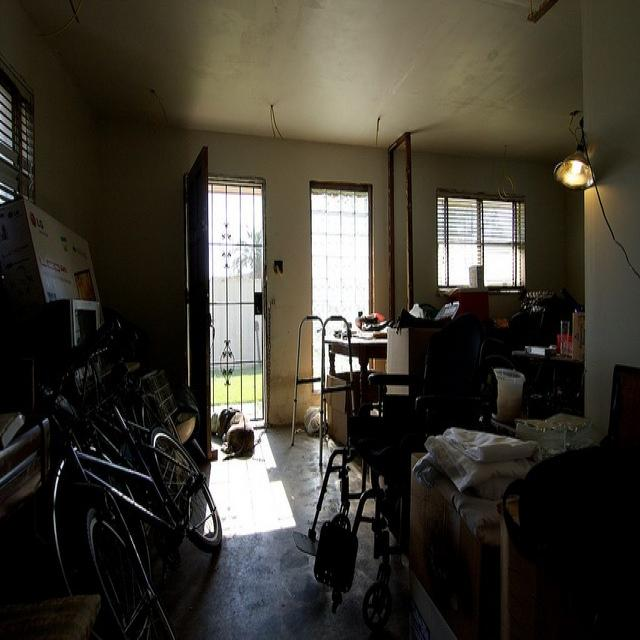bicycle: (50, 403, 218, 639)
dog: (215, 404, 253, 458)
